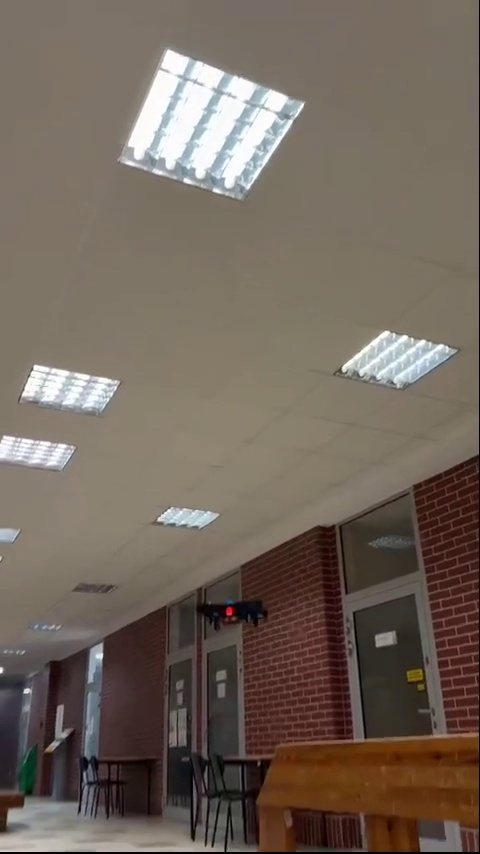drone: (198, 596, 265, 629)
